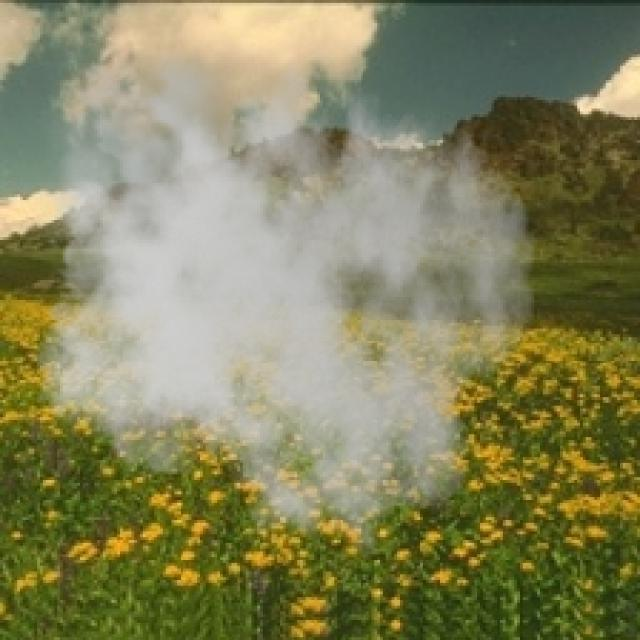Smoke: (20, 22, 537, 554)
